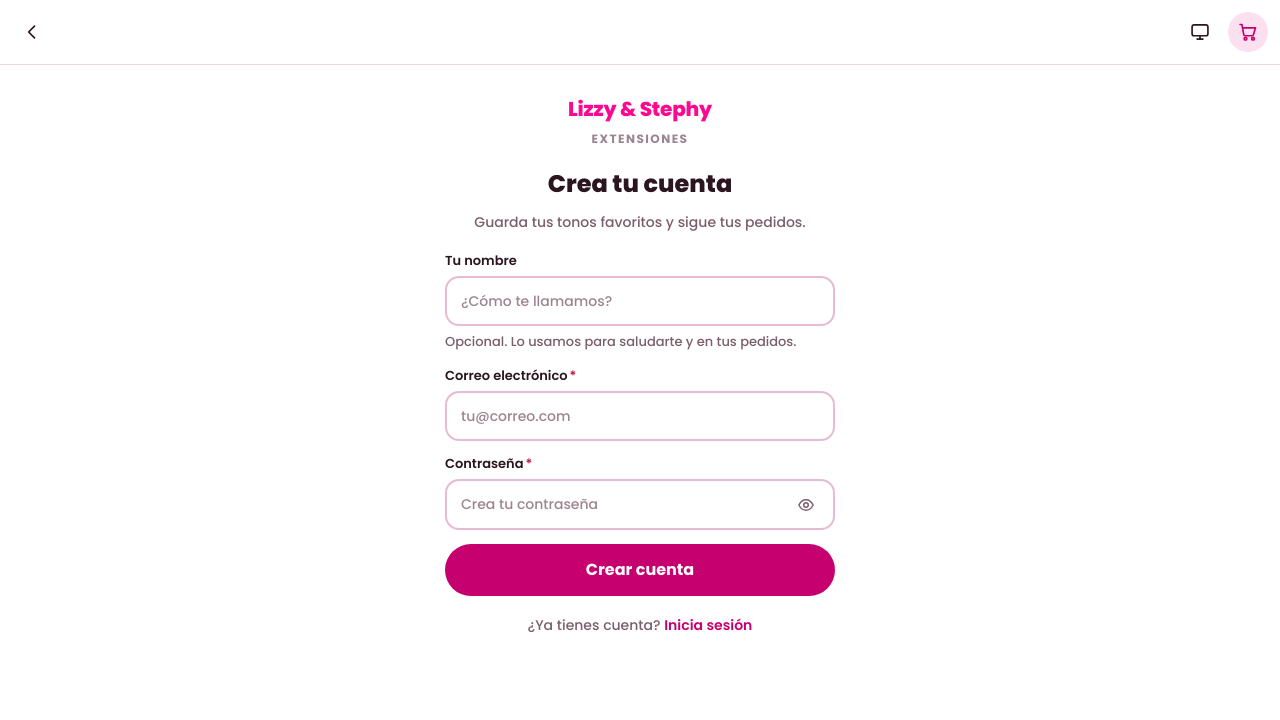
Scenario: RegistroCliente · comprobación del correo › avisa que el correo está disponible
Type "ana@example.com" into the field labelled "Correo electrónico*". click: (640, 416)
box: [461,393,819,439]
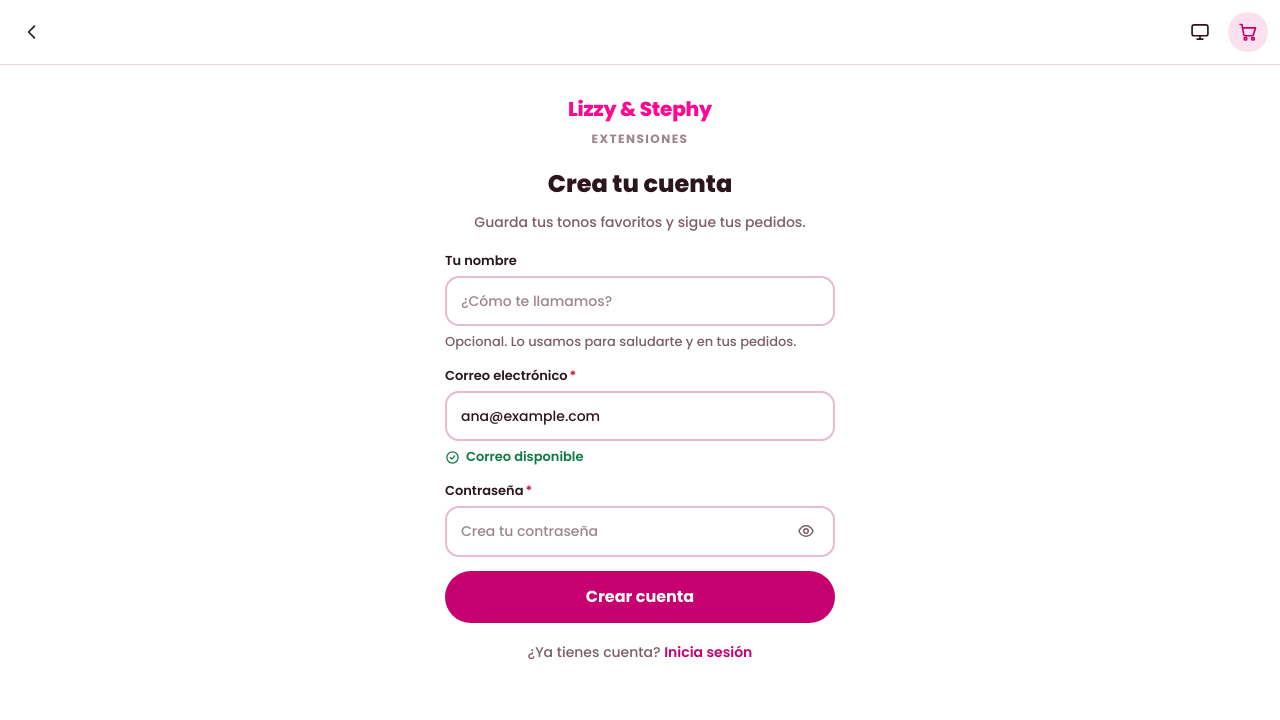
Now the text "Correo disponible" is shown, box [466,447,584,468]
